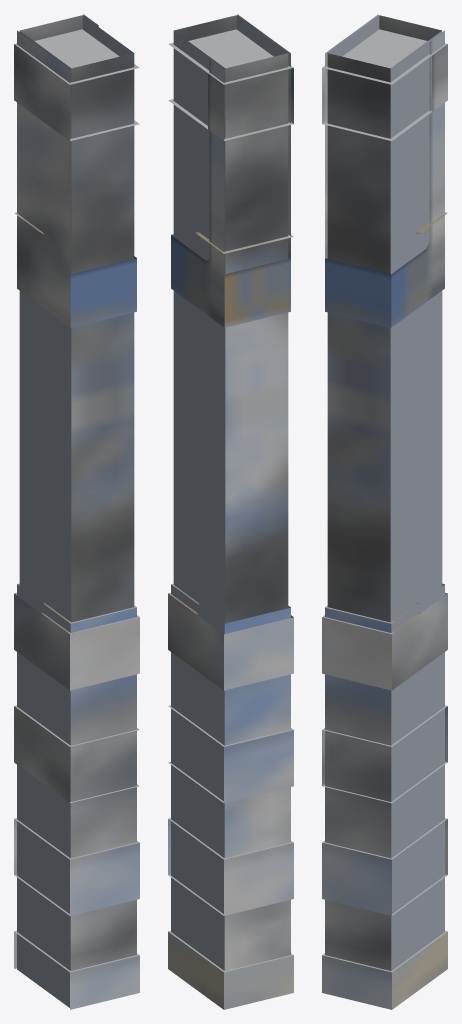
Rendered from section-2.obj.
3 views of the same model, side by side, from view 1: azimuth 30°, elevation 25°; view 2: azimuth 210°, elevation 25°; view 3: azimuth 330°, elevation 25° (orthographic).
Size of the model in its own units: 0.078 by 1 by 0.108.
